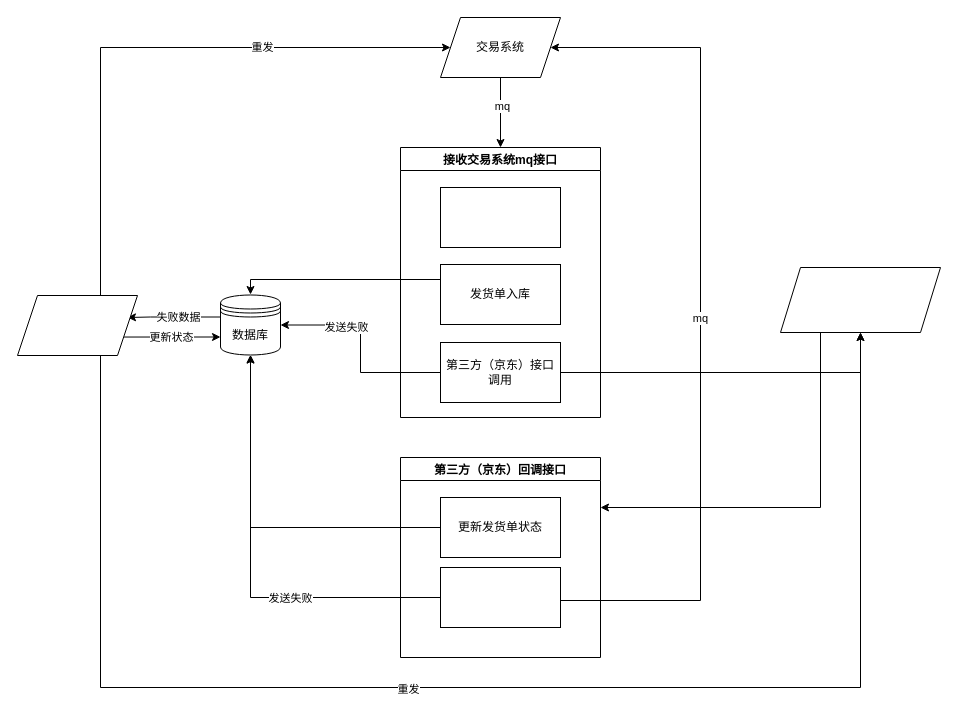
The diagram is 958 pixels wide and 713 high, and some of its shapes have lost their labels. The shapes that lost their labels are listed below. From the top down, each one's centre as x and y in pixels, then its label:
At point (500, 217): "信息映射".
At point (860, 299): "第三方（京东）接口".
At point (77, 325): "xxl-job".
At point (500, 597): "发送mq到交易系统".
